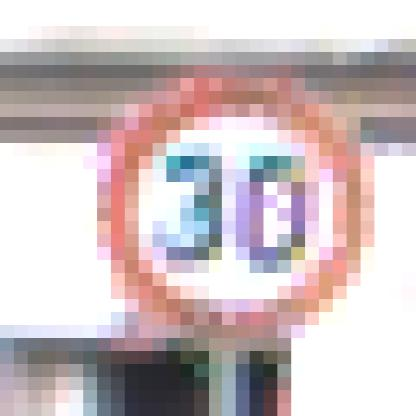Speed Limit 30: (100, 80, 362, 335)
